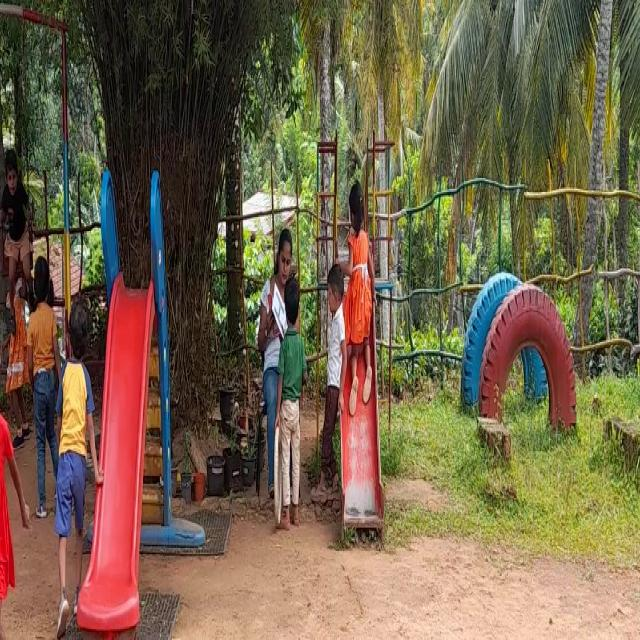child: (53, 316, 94, 622), (316, 253, 351, 524), (344, 158, 379, 420), (276, 284, 308, 545), (32, 266, 61, 522), (3, 144, 31, 324)
